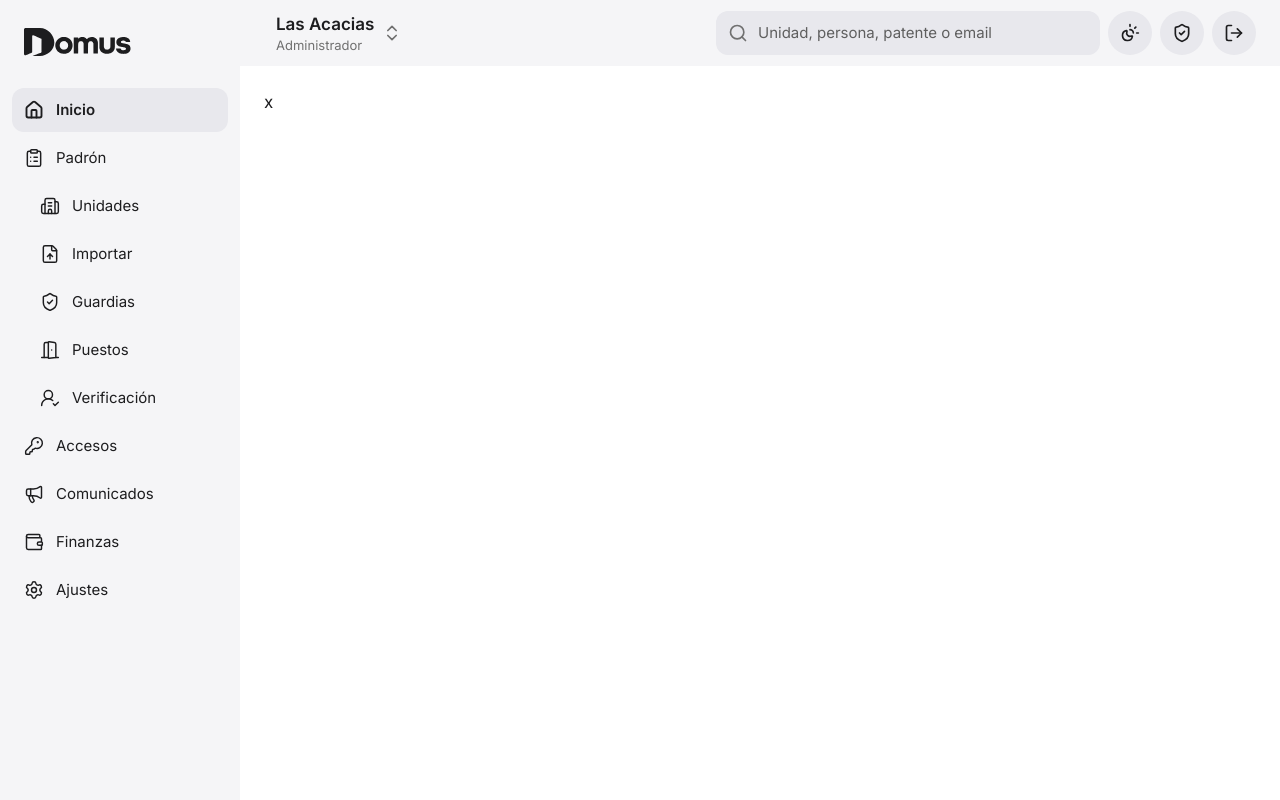
platform option locked behind MFA › offers the challenge step instead of hiding "Plataforma"
Click the button named "Cambiar de contexto". click: (325, 24)
box: [264, 8, 708, 58]
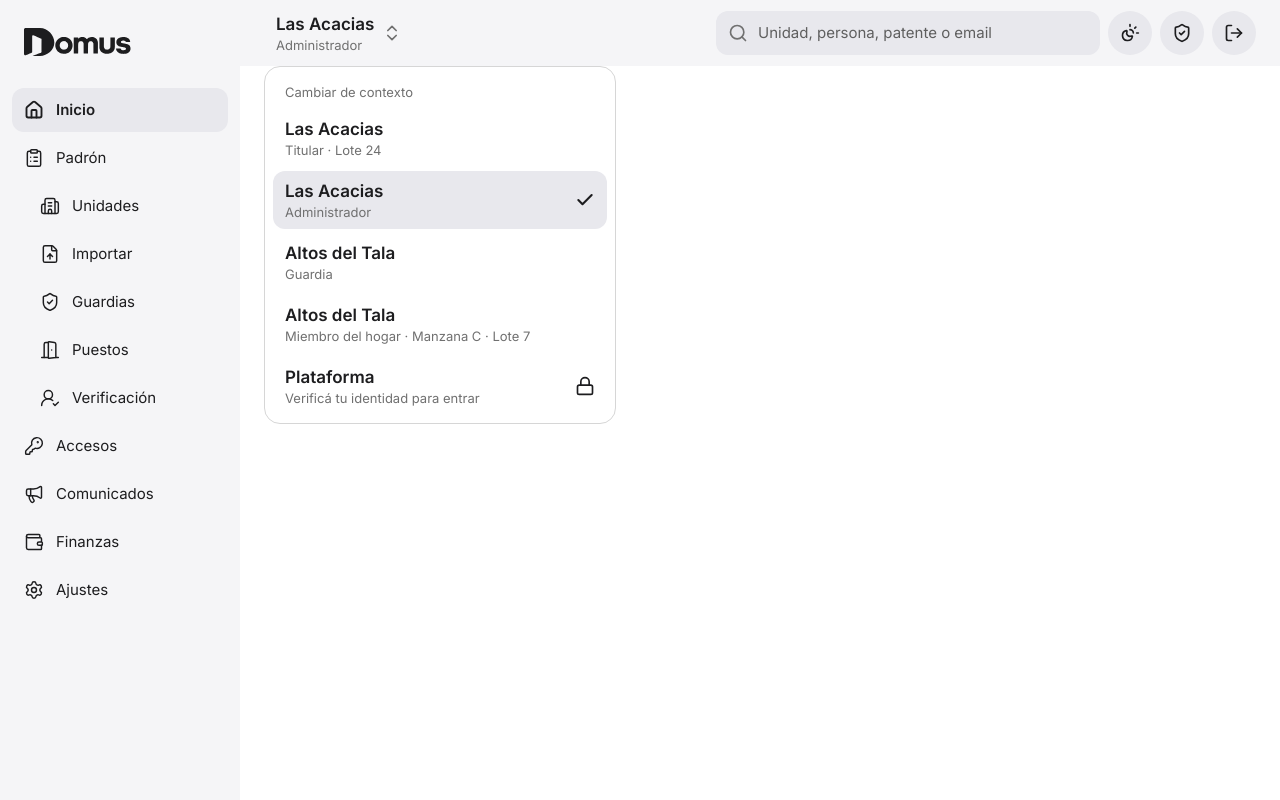
Check: the link "Plataforma Verificá tu identidad para entrar" is shown, box [273, 357, 607, 415]
